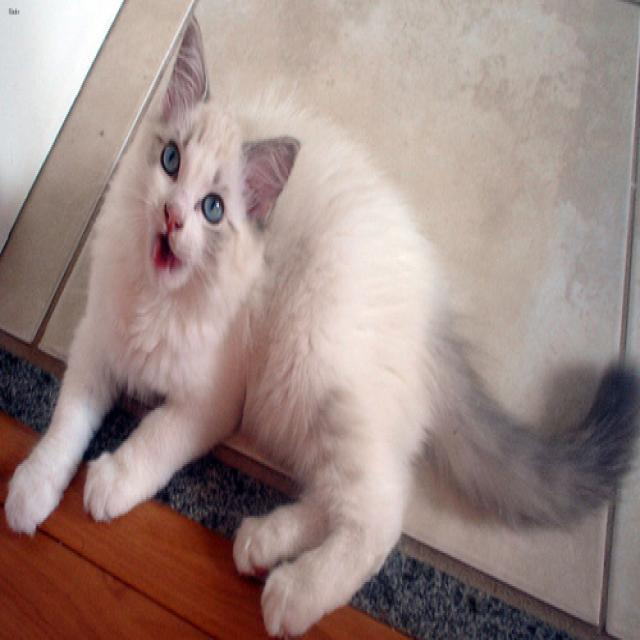Ragdoll: (142, 8, 300, 286)
